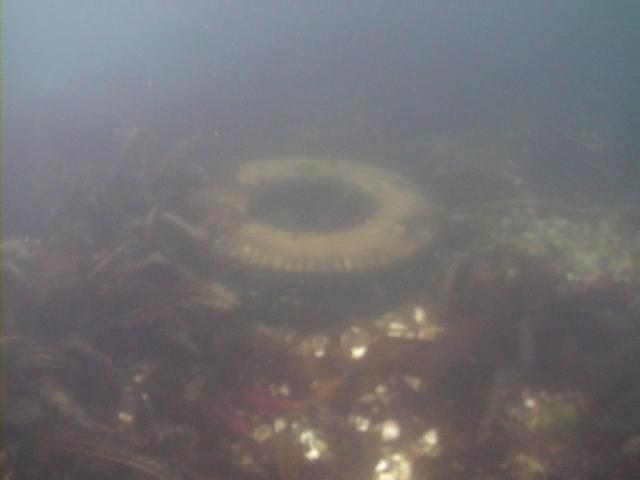tire: (197, 158, 436, 323)
